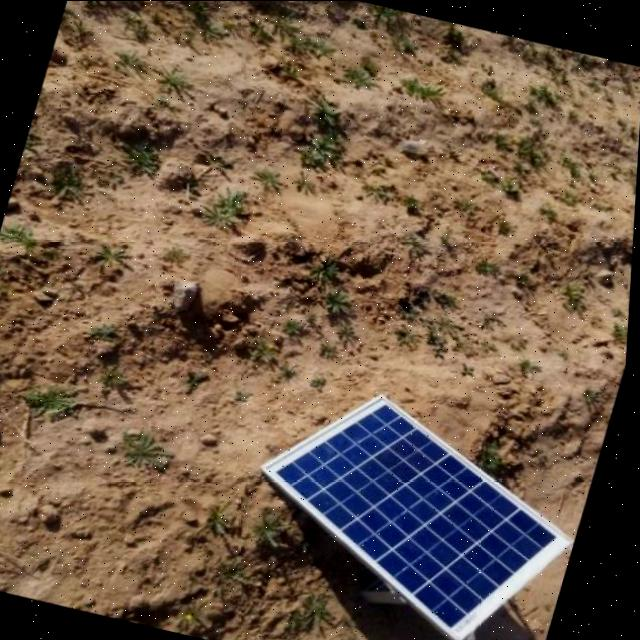Normal Solar Panel: (230, 373, 606, 640)
